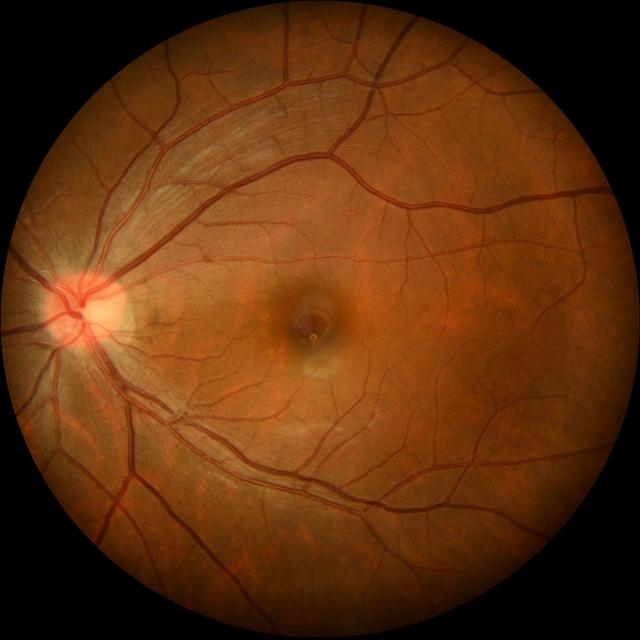OC: (80, 296, 105, 327)
OD: (46, 271, 126, 352)
